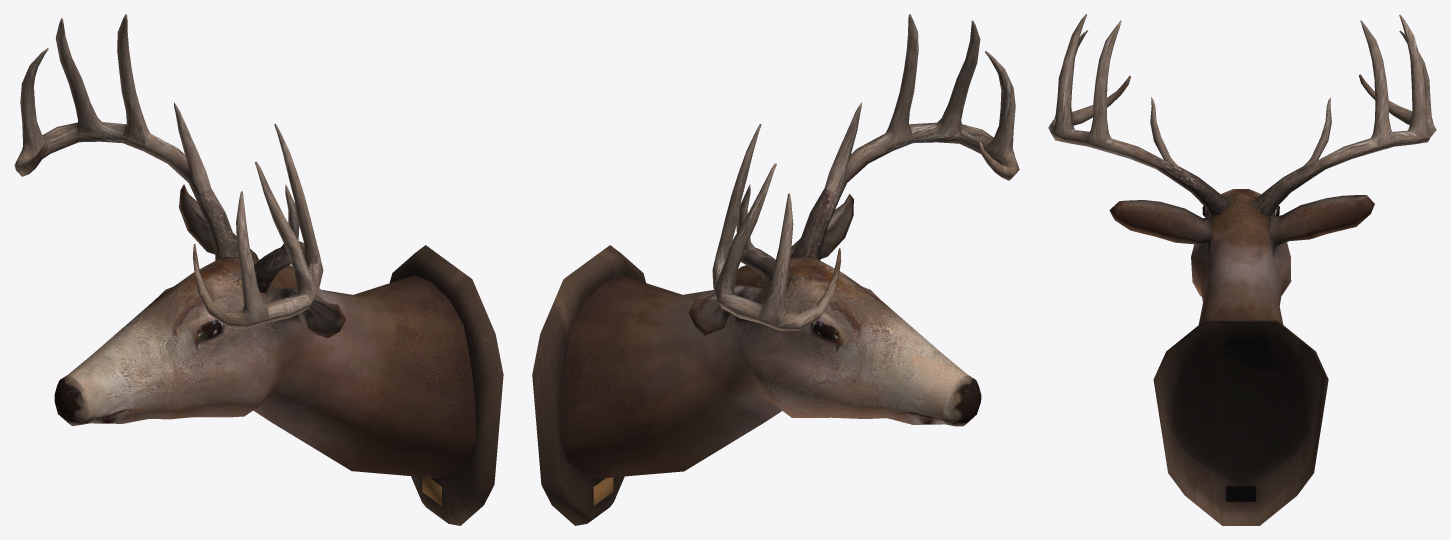
Rendered from trophy_deer.glb.
3 views of the same model, side by side, from view 1: azimuth 30°, elevation 25°; view 2: azimuth 150°, elevation 25°; view 3: azimuth 270°, elevation 25° (orthographic). The views are drawn at different scales.
Parts seen in each view (by area): view 1: trophy_deer; view 2: trophy_deer; view 3: trophy_deer.
Part boxes in pixels (x1,y1,x2,y2): trophy_deer: (14, 14, 503, 525); trophy_deer: (532, 14, 1019, 525); trophy_deer: (1048, 14, 1436, 525).
Size of the model in its own units: 0.7923 by 0.9882 by 0.852.
1 material, 1 textured.
